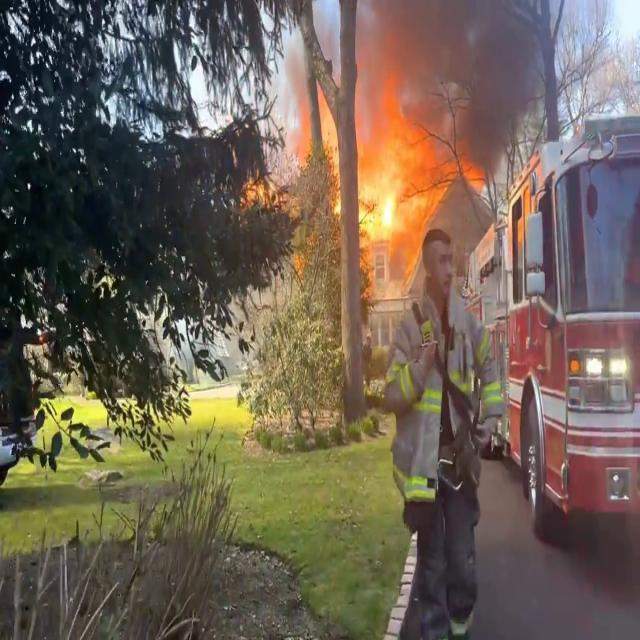Fire: (292, 40, 438, 262), (358, 125, 434, 244)
Smoke: (365, 0, 547, 156)
